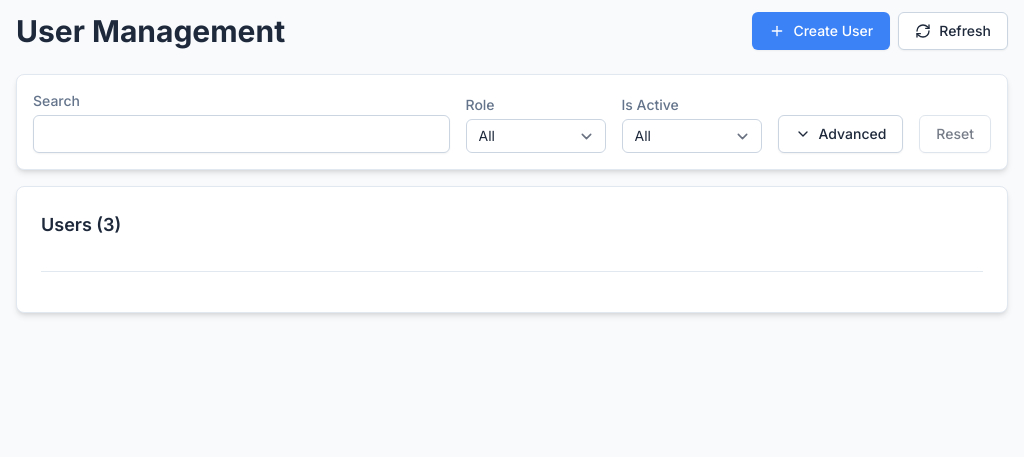
AdminUsers › search and filtering › toggles advanced filters panel
Click the button "Advanced".
click(840, 134)  # box [778,115,903,153]
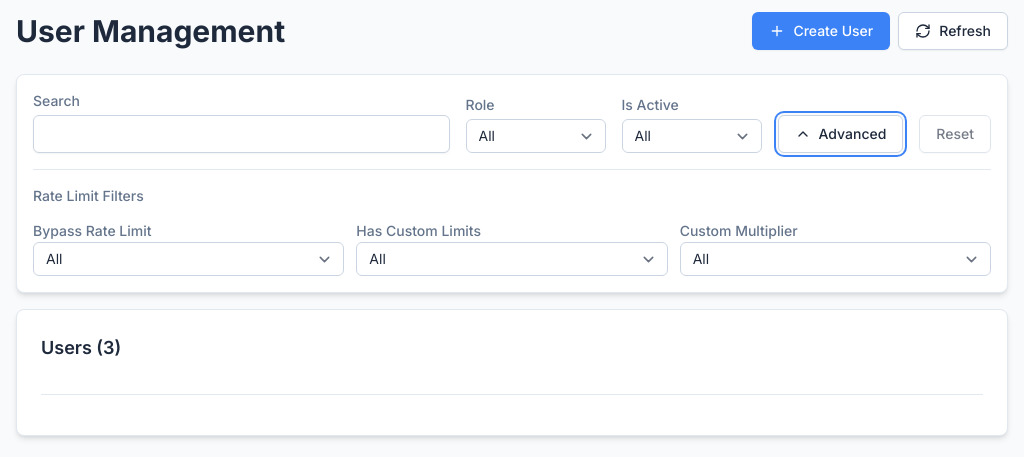
Now the heading "Rate Limit Filters" is shown, box [33,187,144,204]
